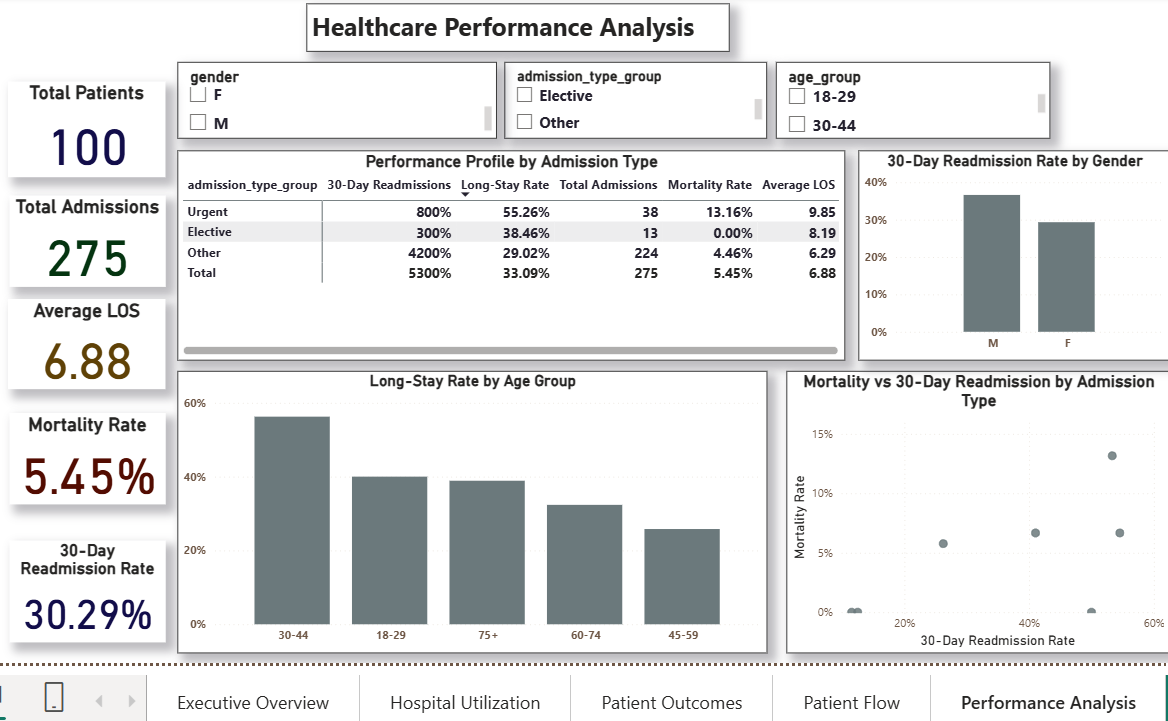

Layout of this report page (visuals, bound fields, positions):
{"tool":"powerbi","page":{"name":"Performance Analysis","canvas":[1280,720],"ordinal":4},"visuals":[{"type":"textbox","box":[335.2,8.1,456.6,51.8],"z":0},{"type":"slicer","fields":{"Values":["hospital_analytics.admission_type_group"]},"box":[548.9,71.2,283.4,82.6],"z":1},{"type":"slicer","fields":{"Values":["hospital_analytics.age_group"]},"box":[842,71.2,296.3,82.6],"z":2},{"type":"slicer","fields":{"Values":["hospital_analytics.gender"]},"box":[195.9,71.2,344.9,82.6],"z":3},{"type":"card","title":"Total Patients","fields":{"Values":["hospital_analytics.Total Patients"]},"box":[13,92.3,170,103.6],"z":4},{"type":"card","title":"Total Admissions","fields":{"Values":["hospital_analytics.Total Admissions"]},"box":[14.6,215.4,168.4,98.8],"z":5},{"type":"card","title":"Average LOS","fields":{"Values":["hospital_analytics.Average LOS"]},"box":[13,327.1,170,97.2],"z":6},{"type":"card","title":"Mortality Rate","fields":{"Values":["hospital_analytics.Mortality Rate"]},"box":[14.6,450.1,168.4,98.8],"z":7},{"type":"card","title":"30-Day Readmission Rate","fields":{"Values":["hospital_analytics.30-Day Readmission Rate"]},"box":[14.6,587.8,168.4,110.1],"z":8},{"type":"pivotTable","title":"Performance Profile by Admission Type","fields":{"Rows":["hospital_analytics.admission_type_group"],"Values":["hospital_analytics.30-Day Readmissions","hospital_analytics.Long-Stay Rate","hospital_analytics.Total Admissions","hospital_analytics.Mortality Rate","hospital_analytics.Average LOS"]},"box":[195.9,166.8,720.6,226.7],"z":9},{"type":"scatterChart","title":"Mortality vs 30-Day Readmission by Admission Type","fields":{"X":["hospital_analytics.30-Day Readmission Rate"],"Y":["hospital_analytics.Mortality Rate"],"Category":["hospital_analytics.admission_type"]},"box":[853.3,404.8,414.5,304.4],"z":10},{"type":"clusteredColumnChart","title":"Long-Stay Rate by Age Group","fields":{"Category":["hospital_analytics.age_group"],"Y":["hospital_analytics.Long-Stay Rate"]},"box":[195.9,404.8,636.4,304.4],"z":11},{"type":"clusteredColumnChart","title":"30-Day Readmission Rate by Gender","fields":{"Category":["hospital_analytics.gender"],"Y":["hospital_analytics.Long-Stay Rate"]},"box":[931.1,166.8,336.8,226.7],"z":12}]}

Visuals, with their boxes on the page's 1280x720 design canvas (x1, y1, x2, y2). These are canvas units, not pixel positions in the 1168x721 screenshot, which may show the page scaled, cropped or inside an application window:
textbox: bbox(335, 8, 792, 60)
slicer - hospital_analytics.admission_type_group: bbox(549, 71, 832, 154)
slicer - hospital_analytics.age_group: bbox(842, 71, 1138, 154)
slicer - hospital_analytics.gender: bbox(196, 71, 541, 154)
"Total Patients" card: bbox(13, 92, 183, 196)
"Total Admissions" card: bbox(15, 215, 183, 314)
"Average LOS" card: bbox(13, 327, 183, 424)
"Mortality Rate" card: bbox(15, 450, 183, 549)
"30-Day Readmission Rate" card: bbox(15, 588, 183, 698)
"Performance Profile by Admission Type" pivotTable: bbox(196, 167, 916, 394)
"Mortality vs 30-Day Readmission by Admission Type" scatterChart: bbox(853, 405, 1268, 709)
"Long-Stay Rate by Age Group" clusteredColumnChart: bbox(196, 405, 832, 709)
"30-Day Readmission Rate by Gender" clusteredColumnChart: bbox(931, 167, 1268, 394)
